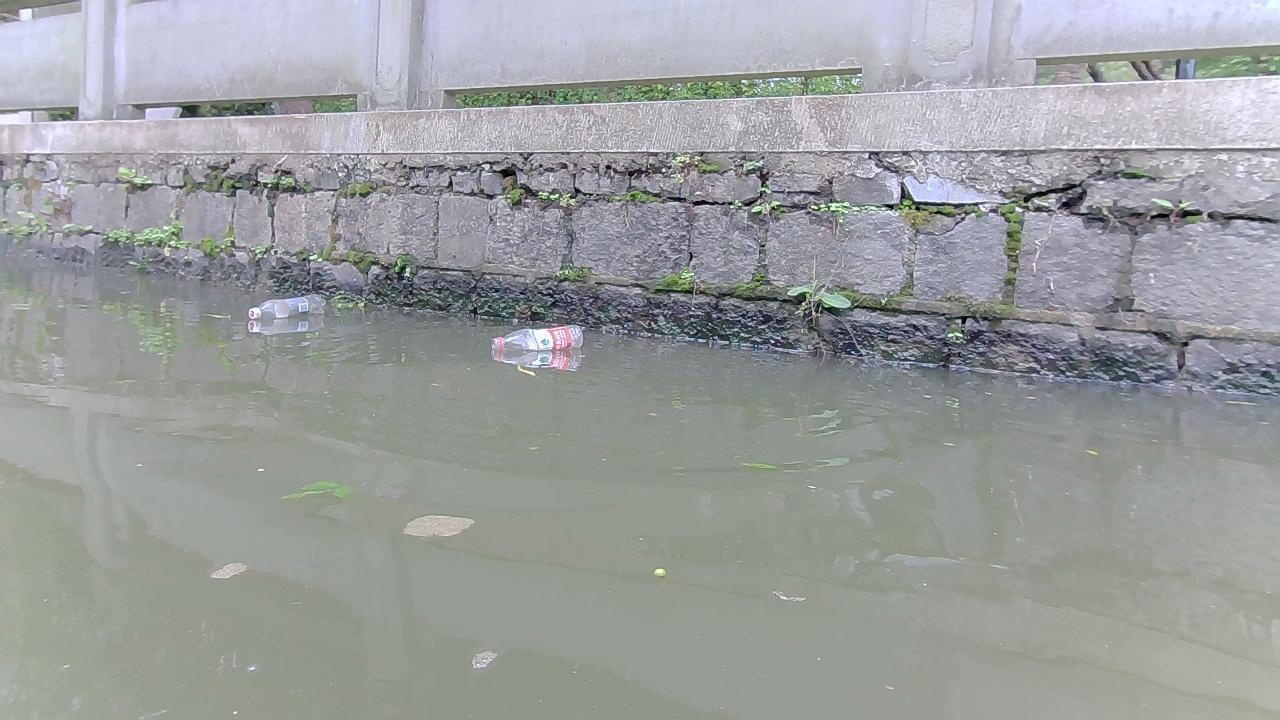bottle: (490, 324, 581, 353), (246, 293, 326, 318)
